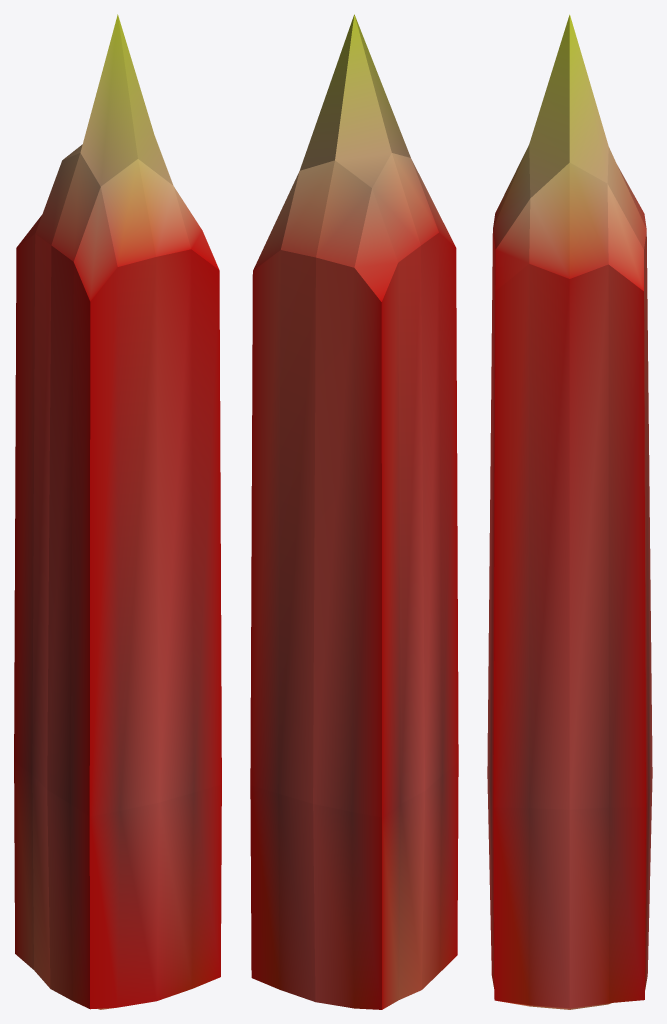
Rendered from pencil.fbx.
The picture shows the model from 3 angles, left to right: view 1: azimuth 30°, elevation 25°; view 2: azimuth 150°, elevation 25°; view 3: azimuth 270°, elevation 25°; orthographic projection.
Parts seen in each view (by area): view 1: Cube; view 2: Cube; view 3: Cube.
Part boxes in pixels (x1,y1,x2,y2): Cube: (14,14,221,1009); Cube: (250,14,458,1009); Cube: (487,14,652,1009).
Size of the model in its own units: 197 by 1301 by 198.
